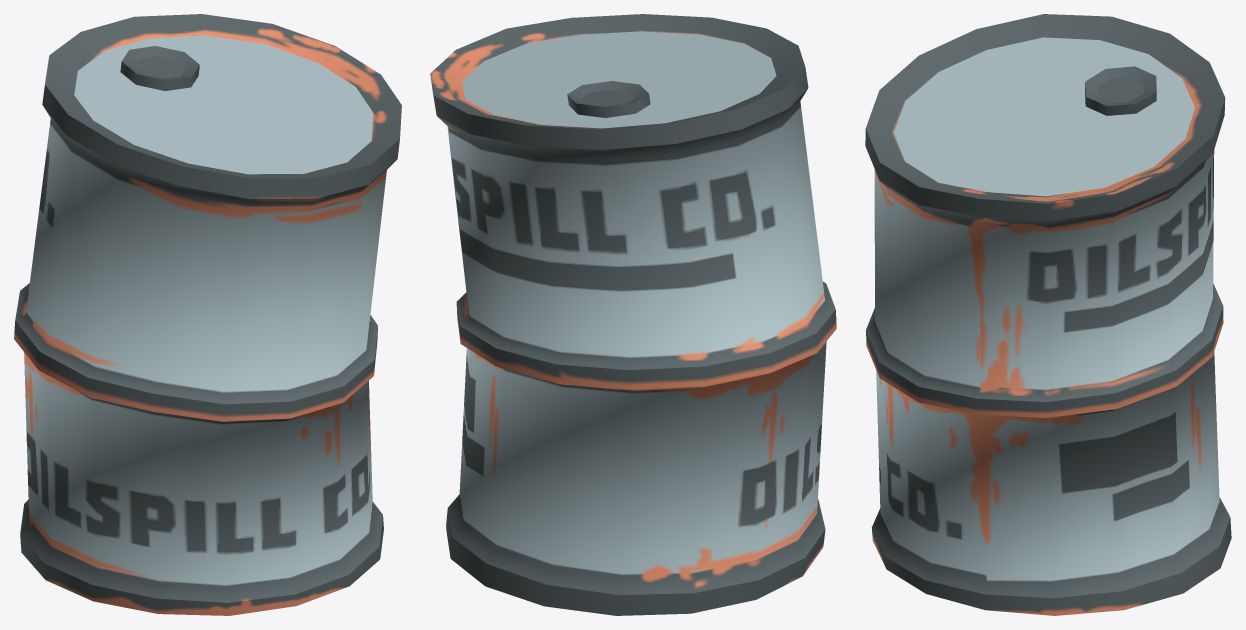
File: OilBarel2.glb
3 views of the same model, side by side, from view 1: azimuth 30°, elevation 25°; view 2: azimuth 150°, elevation 25°; view 3: azimuth 270°, elevation 25° (orthographic). The views are drawn at different scales.
Visible parts, largest first — view 1: OilBarel2; view 2: OilBarel2; view 3: OilBarel2.
Boxes of the visible parts, x1,y1,x2,y2 form: OilBarel2: [14, 14, 401, 615]; OilBarel2: [430, 14, 836, 615]; OilBarel2: [865, 14, 1231, 615].
Bounding box in the file's own units: 0.6955 × 0.8963 × 0.6458.
1 material, 1 textured.
